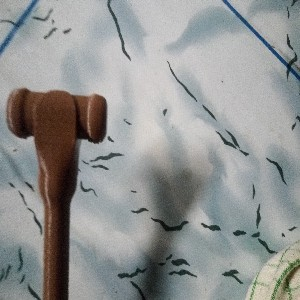palu: (4, 86, 107, 300)
